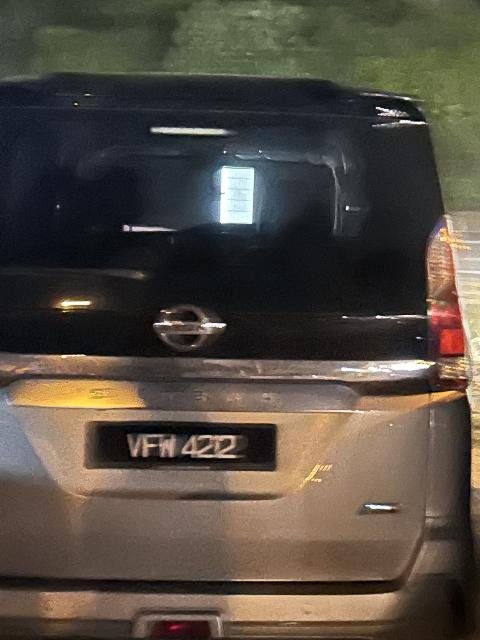License_Plate: (86, 422, 289, 478)
car: (1, 68, 480, 640)
